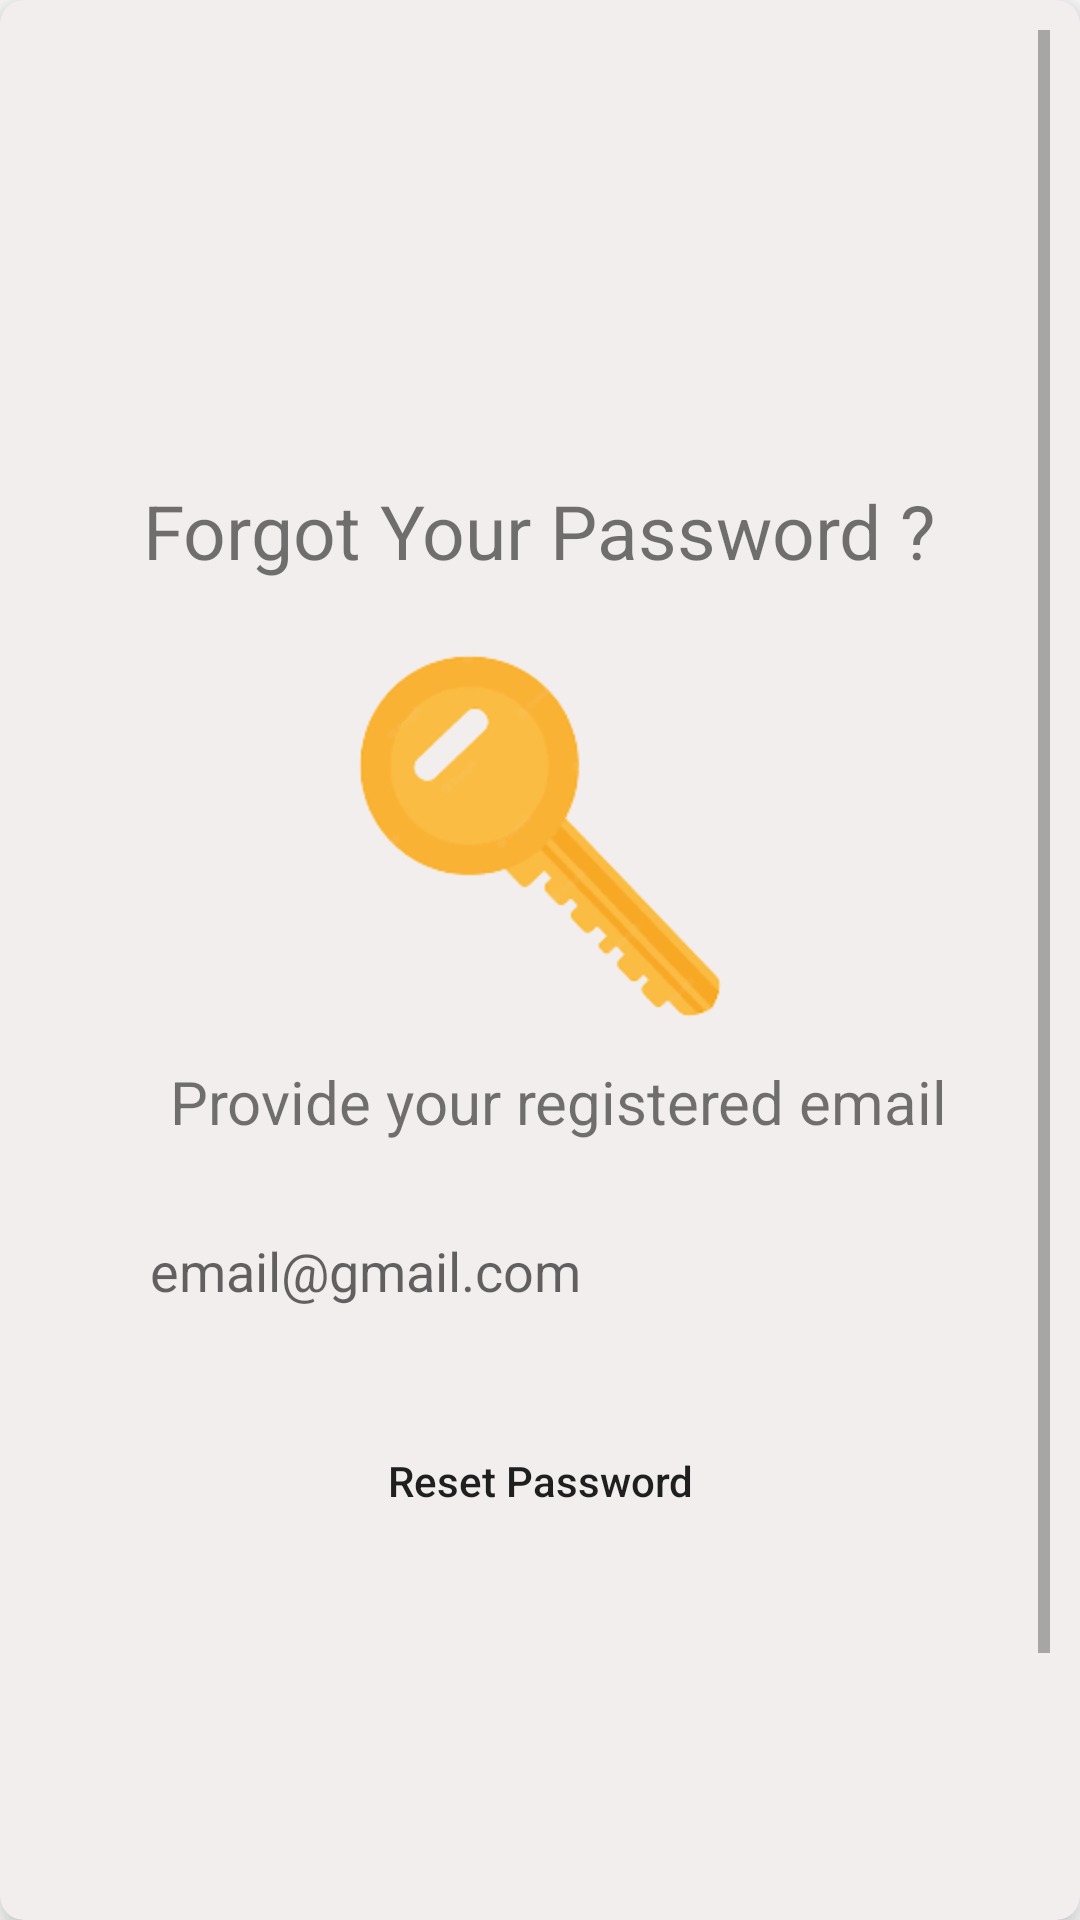

Where icons sit on this 1080×1920 app screen, as (x1, y1, x2, y2):
key: (360, 656, 720, 1016)
